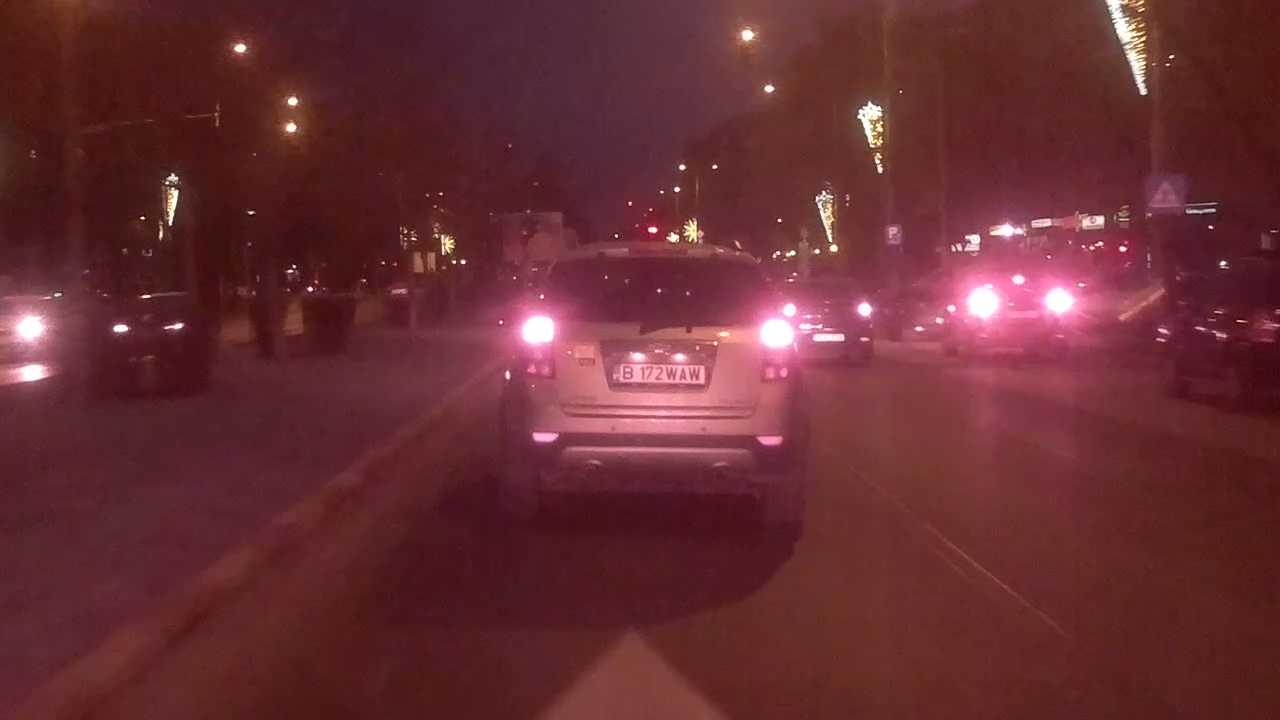license-plate: (608, 361, 709, 386)
